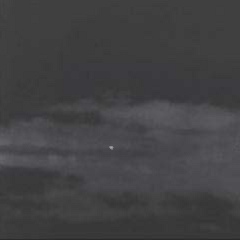Target: (108, 144, 114, 151)
